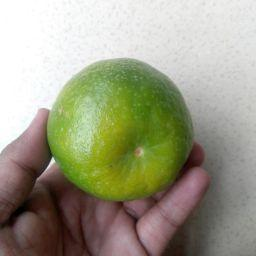Unripe: (47, 58, 192, 201)
